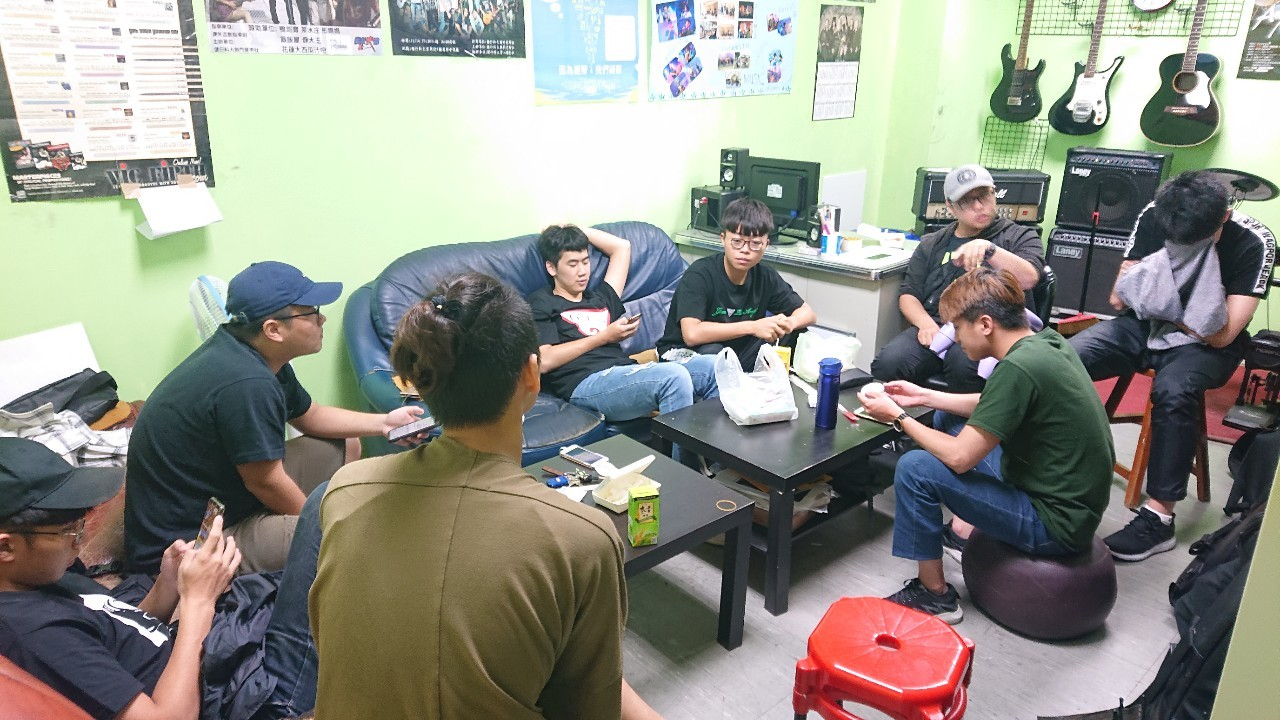people: (351, 282, 586, 720), (1, 440, 269, 704), (1129, 158, 1253, 602), (155, 264, 320, 580), (938, 282, 1106, 578), (689, 197, 793, 395), (548, 222, 640, 422), (933, 160, 1013, 302)
